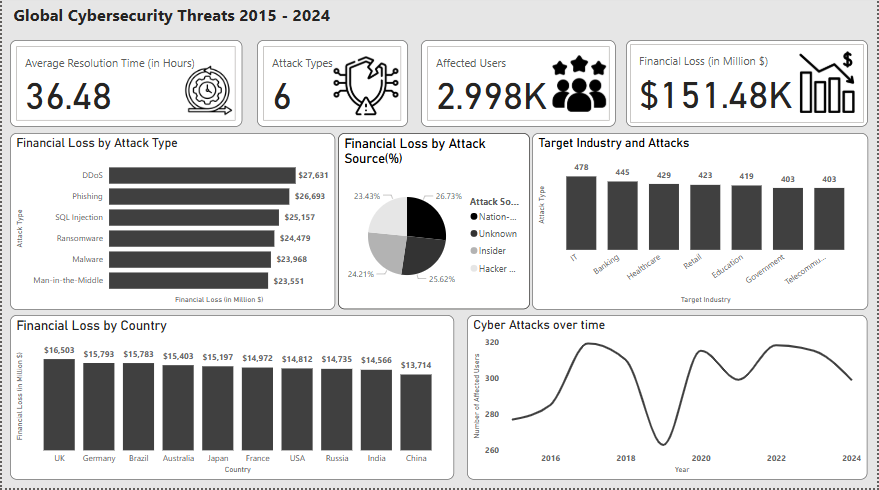

This screenshot's page, from the dashboard's own definition file:
{"tool":"powerbi","page":{"name":"Page 1","canvas":[1280,720],"ordinal":0},"visuals":[{"type":"clusteredColumnChart","title":"Financial Loss by Country","fields":{"Category":["Global_Cybersecurity_Threats_2015-2024.Country"],"Y":["Sum(Global_Cybersecurity_Threats_2015-2024.Financial Loss (in Million $))"]},"box":[11.7,466.8,649.8,241.5],"z":0},{"type":"clusteredBarChart","title":"Financial Loss by Attack Type","fields":{"Category":["Global_Cybersecurity_Threats_2015-2024.Attack Type"],"Y":["Sum(Global_Cybersecurity_Threats_2015-2024.Financial Loss (in Million $))"]},"box":[11.7,200.5,475.6,259],"z":1000},{"type":"cardVisual","fields":{"Data":["Sum(Global_Cybersecurity_Threats_2015-2024.Financial Loss (in Million $))"]},"box":[913.2,64.4,354.1,127.3],"z":2000},{"type":"cardVisual","fields":{"Data":["Avg(Global_Cybersecurity_Threats_2015-2024.Incident Resolution Time (in Hours))"]},"box":[11.7,64.4,339.5,127.3],"z":3000},{"type":"cardVisual","fields":{"Data":["Count(Global_Cybersecurity_Threats_2015-2024.Attack Type)"]},"box":[373.2,64.4,221,127.3],"z":4000},{"type":"cardVisual","fields":{"Data":["Count(Global_Cybersecurity_Threats_2015-2024.Number of Affected Users)"]},"box":[613.2,64.4,285.4,127.3],"z":5000},{"type":"clusteredColumnChart","title":"Target Industry and Attacks","fields":{"Category":["Global_Cybersecurity_Threats_2015-2024.Target Industry"],"Y":["CountNonNull(Global_Cybersecurity_Threats_2015-2024.Attack Type)"]},"box":[775.6,200.5,491.7,259],"z":6000},{"type":"lineChart","title":"Cyber Attacks over time","fields":{"Category":["Global_Cybersecurity_Threats_2015-2024.Year"],"Y":["CountNonNull(Global_Cybersecurity_Threats_2015-2024.Number of Affected Users)"]},"box":[681.1,466.6,586.4,241.3],"z":7000},{"type":"pieChart","title":" Financial Loss  by Attack Source(%)","fields":{"Category":["Global_Cybersecurity_Threats_2015-2024.Attack Source"],"Y":["Sum(Global_Cybersecurity_Threats_2015-2024.Financial Loss (in Million $))"]},"box":[491.7,200.5,281,257.6],"z":8000},{"type":"textbox","box":[11.7,0,504.9,54.1],"z":9000},{"type":"image","box":[237.1,96.6,131.7,83.4],"z":10000},{"type":"image","box":[433.2,79,199,105.4],"z":11000},{"type":"image","box":[769.8,76.1,150.7,103.9],"z":12000},{"type":"image","box":[1147.3,76.1,120,99.5],"z":13000}]}

Visuals, with their boxes in screenshot pixels (x1, y1, x2, y2), scaled from the page's 1280x720 canvas onto the 879x490 screenshot:
"Financial Loss by Country" clusteredColumnChart: select_region(8, 318, 454, 482)
"Financial Loss by Attack Type" clusteredBarChart: select_region(8, 136, 335, 313)
cardVisual - Sum(Global_Cybersecurity_Threats_2015-2024.Financial Loss (in Million $)): select_region(627, 44, 870, 130)
cardVisual - Avg(Global_Cybersecurity_Threats_2015-2024.Incident Resolution Time (in Hours)): select_region(8, 44, 241, 130)
cardVisual - Count(Global_Cybersecurity_Threats_2015-2024.Attack Type): select_region(256, 44, 408, 130)
cardVisual - Count(Global_Cybersecurity_Threats_2015-2024.Number of Affected Users): select_region(421, 44, 617, 130)
"Target Industry and Attacks" clusteredColumnChart: select_region(533, 136, 870, 313)
"Cyber Attacks over time" lineChart: select_region(468, 318, 870, 482)
" Financial Loss  by Attack Source(%)" pieChart: select_region(338, 136, 531, 312)
textbox: select_region(8, 0, 355, 37)
image: select_region(163, 66, 253, 122)
image: select_region(297, 54, 434, 125)
image: select_region(529, 52, 632, 122)
image: select_region(788, 52, 870, 120)
